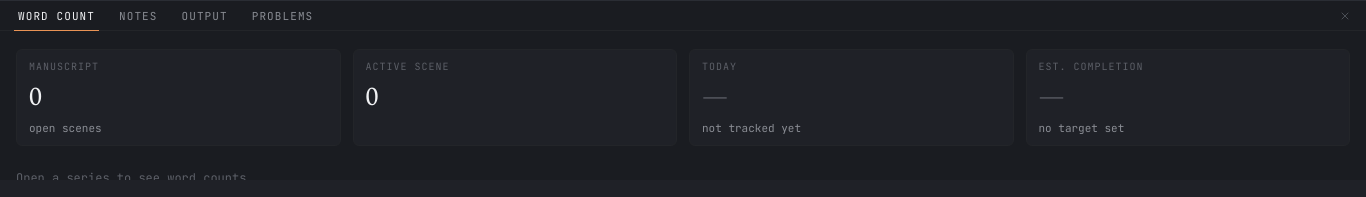
Scenario: BottomPanel checklist behavior › loads checklist from active scene and persists added note
Click the text "Notes" at (138, 16), box left=119, top=8, right=158, bottom=22
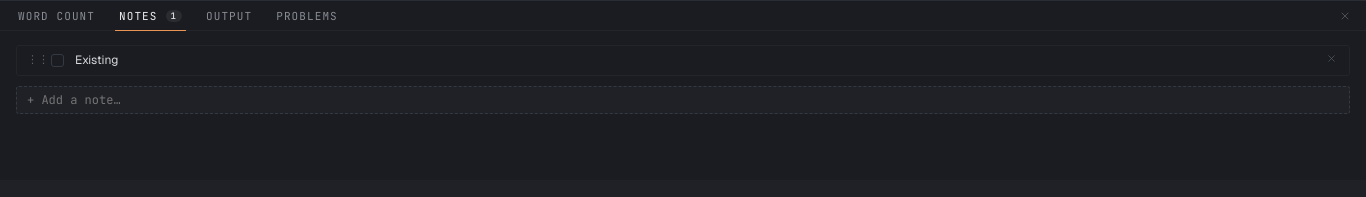
Result: the text "Existing" is shown at left=75, top=52, right=118, bottom=68
Type "New note" into the field with placeholder "+ Add a note…" at (683, 100), box left=16, top=86, right=1350, bottom=114
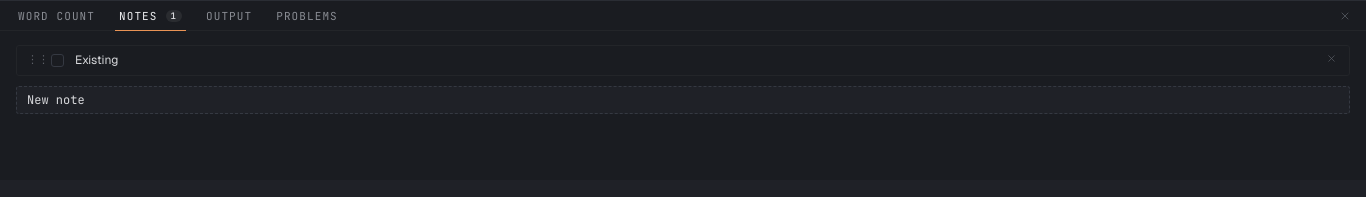
Press Enter in the field with placeholder "+ Add a note…", box left=16, top=86, right=1350, bottom=114
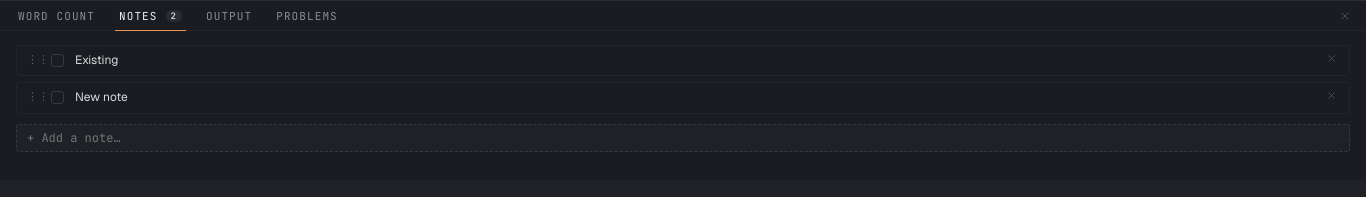
Result: the text "New note" is shown at left=75, top=89, right=128, bottom=105
